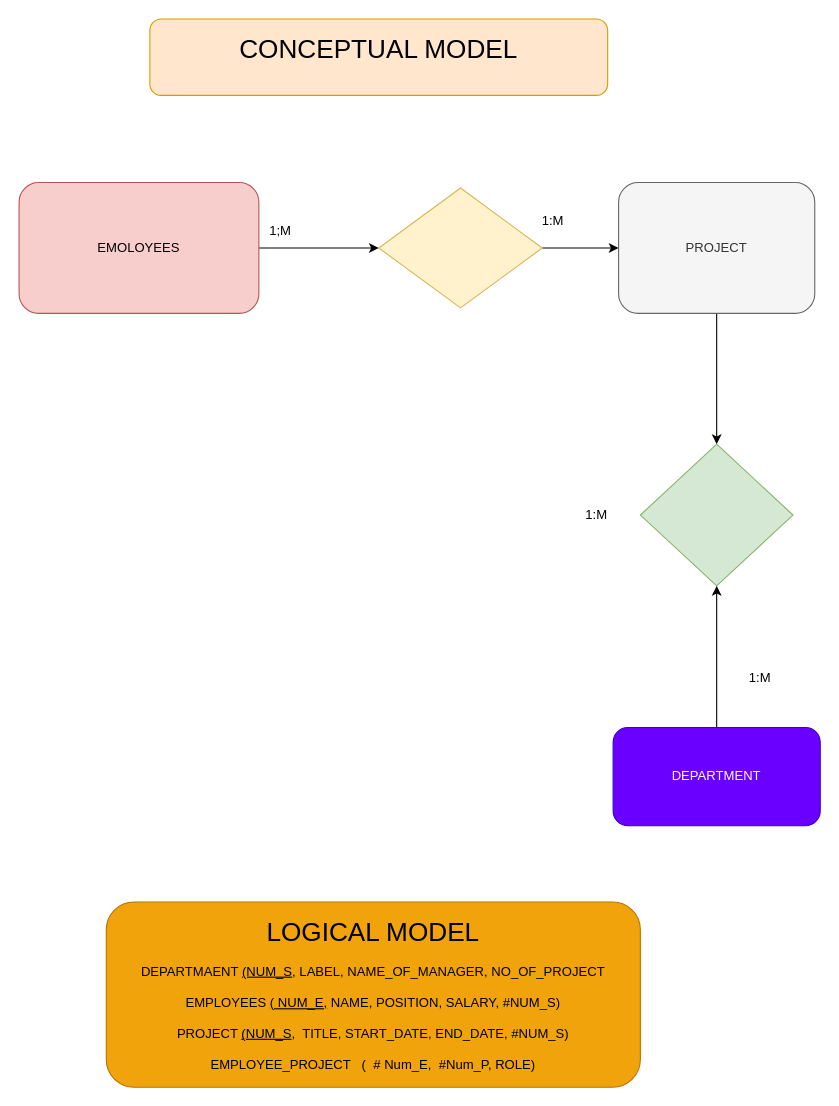
The diagram is 839 pixels wide and 1106 high, and some of its shapes have lost their labels. The shapes that lost their labels are listed below. From the top down, each one's centre as x and y in pixels, then its label:
the point at 460,247: PARTICIPATE
the point at 716,514: ASSIGNED
